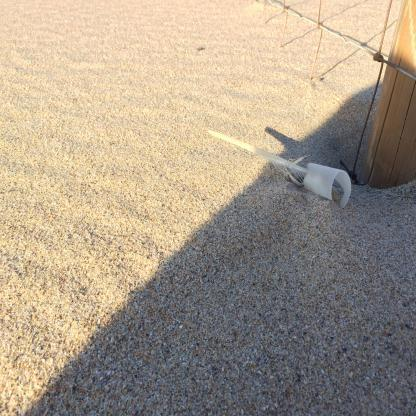plastik: (304, 164, 353, 210)
